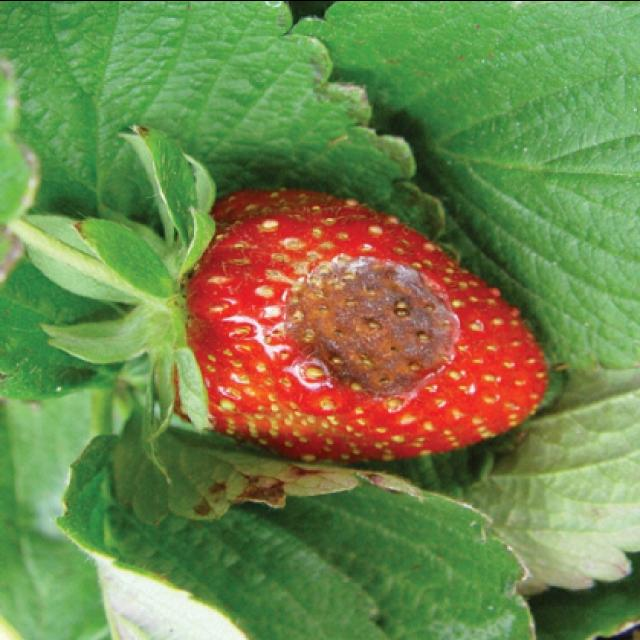Anthracnose Fruit Rot: (309, 278, 439, 389)
